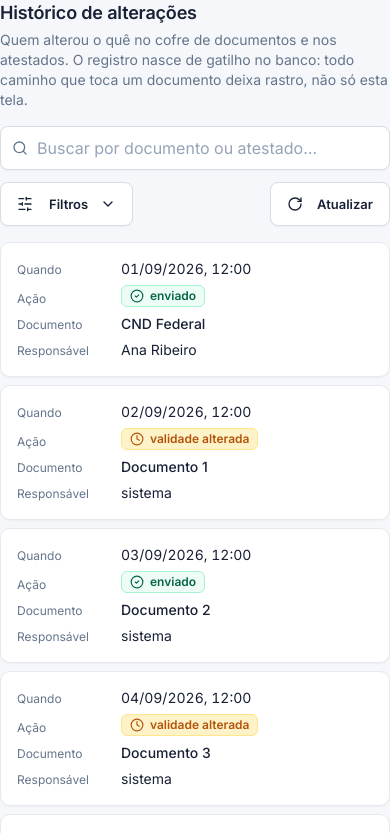
Test: filtros › sem resultado com filtro aplicado, diz que é o filtro — não que a trilha está vazia
The width and height of the screenshot is (390, 833).
Check: the text "CND Federal" is shown, box [121, 315, 205, 332]
Type "inexistente-zzz" into the field with placeholder "Buscar por documento ou atestado…".
click(195, 148); type("inexistente-zzz")  # box [0, 126, 389, 170]
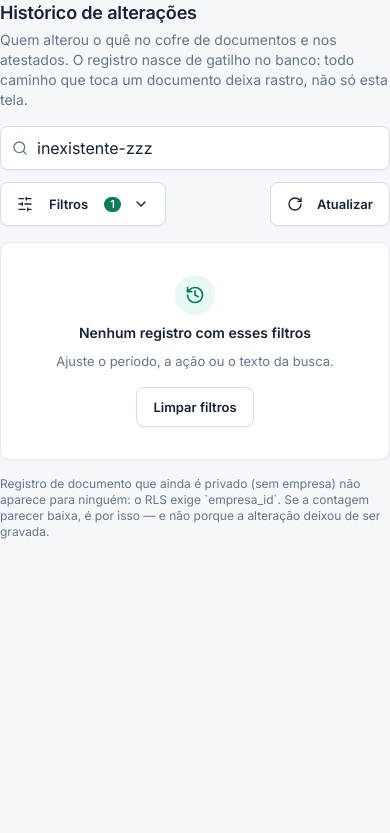
Check: the text "Nenhum registro com esses filtros" is shown, box [79, 323, 311, 343]
